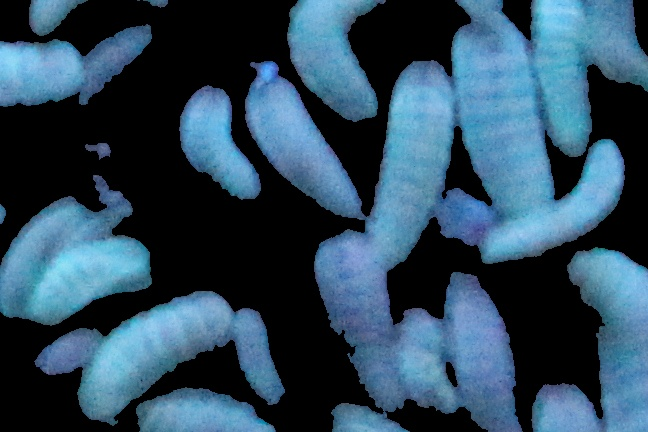larvae: (443, 10, 554, 214), (82, 283, 246, 412), (239, 62, 362, 220), (478, 140, 634, 262), (319, 228, 418, 415), (379, 65, 450, 265), (287, 1, 387, 126), (175, 75, 268, 206), (448, 272, 522, 432), (530, 1, 598, 165), (29, 238, 154, 324), (4, 191, 80, 311), (1, 45, 88, 134), (229, 302, 292, 415), (134, 383, 267, 432)
